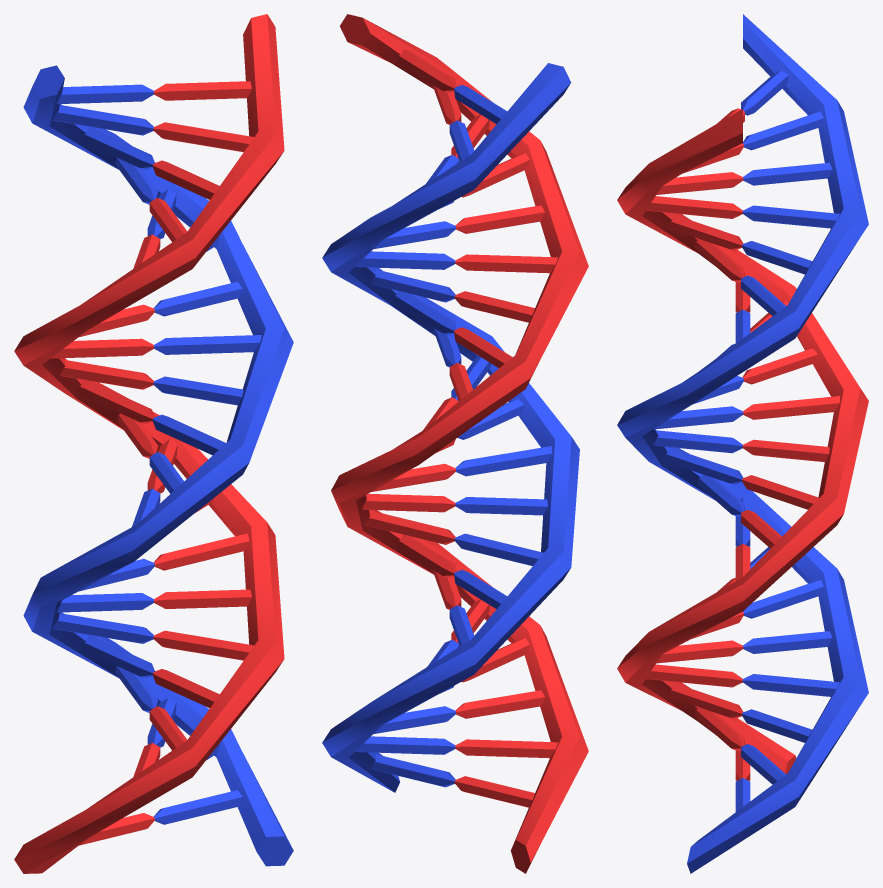
Rendered from DNA_Asset.fbx.
3 views of the same model, side by side, from view 1: azimuth 30°, elevation 25°; view 2: azimuth 150°, elevation 25°; view 3: azimuth 270°, elevation 25° (orthographic). The views are drawn at different scales.
Parts seen in each view (by area): view 1: DNA1_5; view 2: DNA1_5; view 3: DNA1_5.
Part boxes in pixels (<box>): DNA1_5: <box>14,14,293,873</box>; DNA1_5: <box>322,14,588,873</box>; DNA1_5: <box>617,14,868,873</box>.
Size of the model in its own units: 92.88 by 303 by 90.55.
